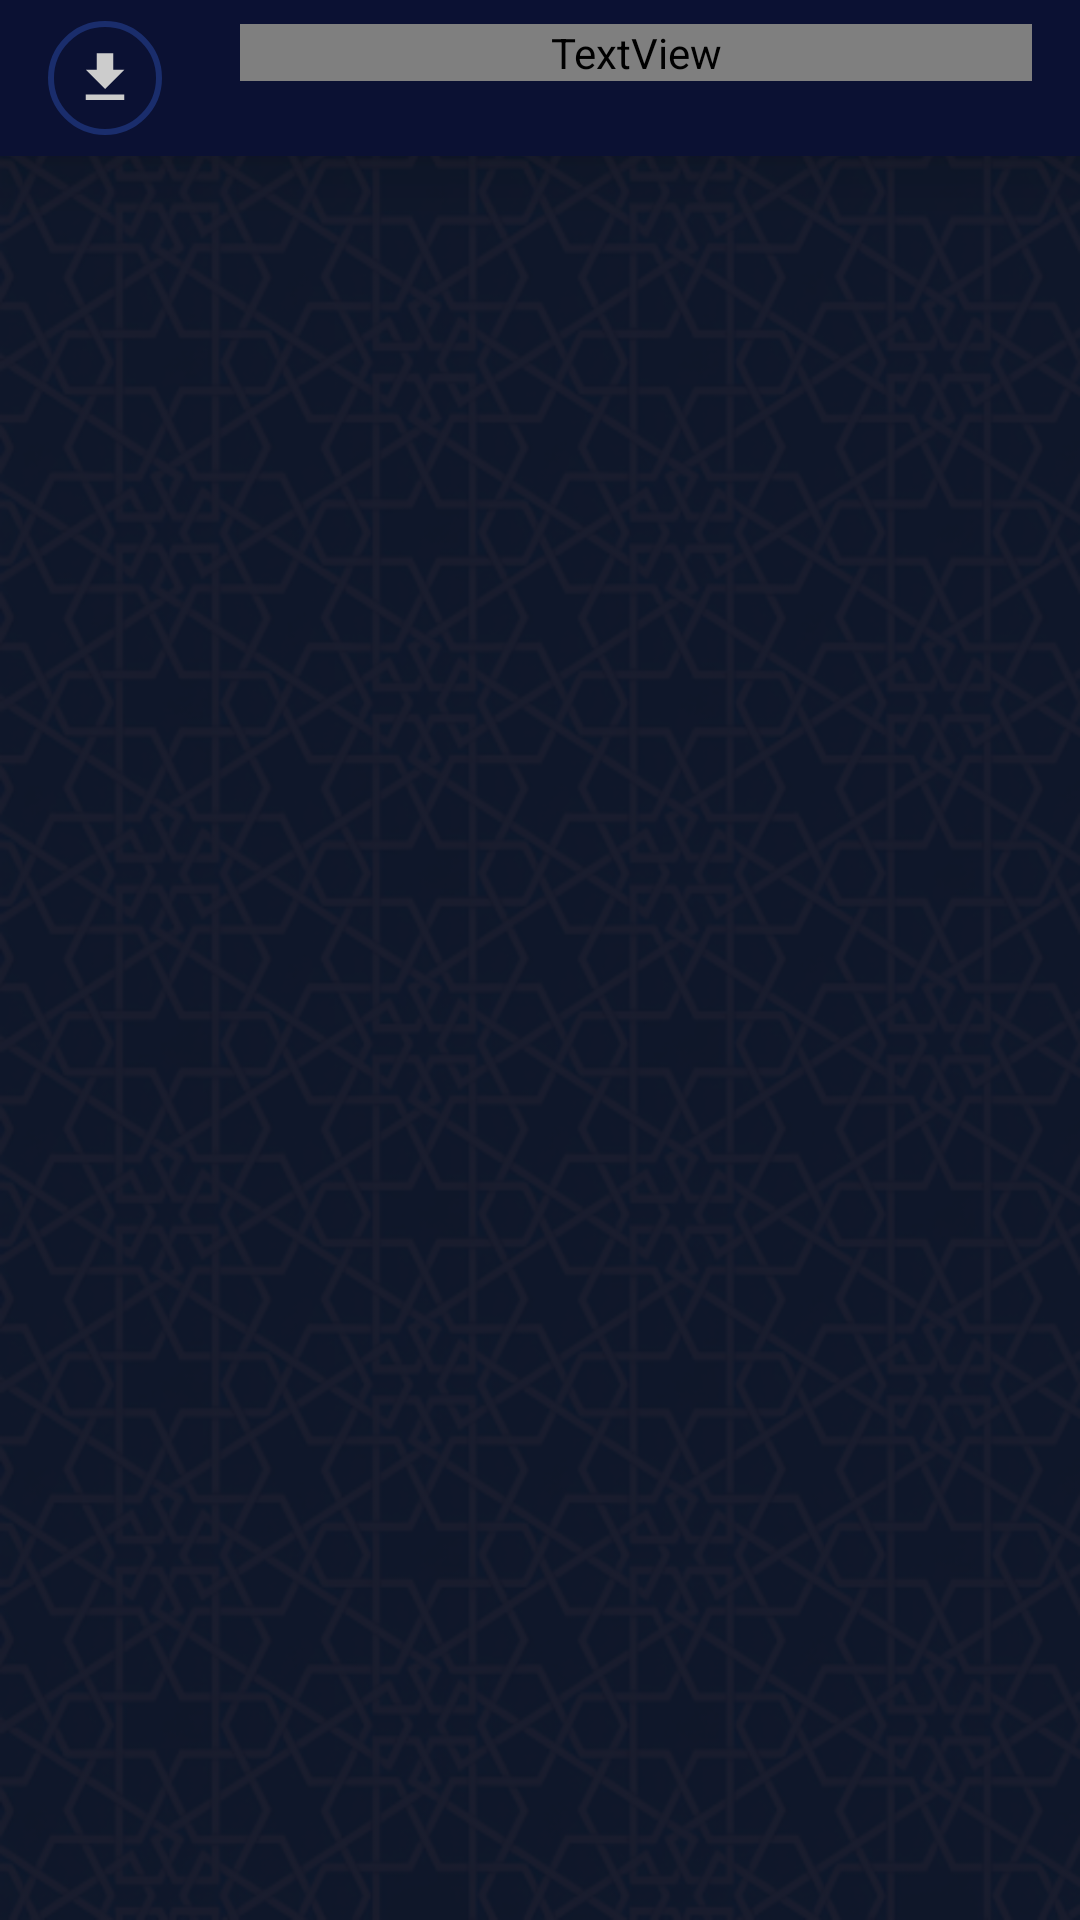

Locate icon controls on the screen. Image size 1080 × 1920, boxes as (x1=x1, y1=y1, x2=x2, y2=y2).
download: (x1=48, y1=21, x2=162, y2=135)
